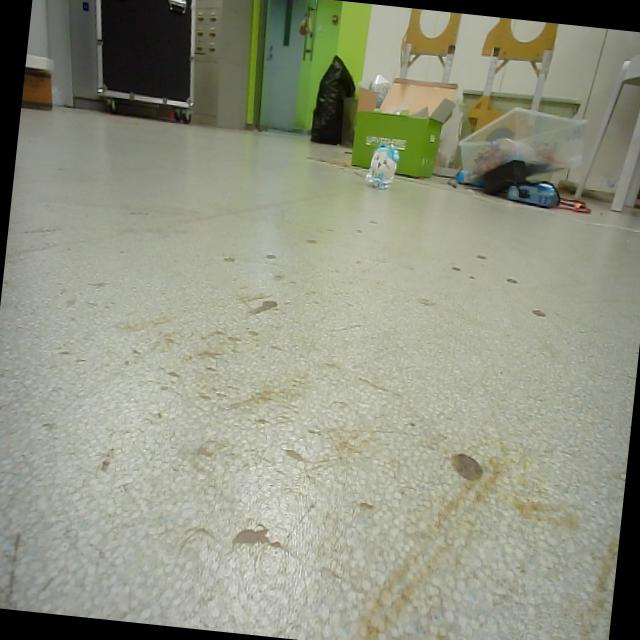xiaoba: (360, 137, 401, 195)
